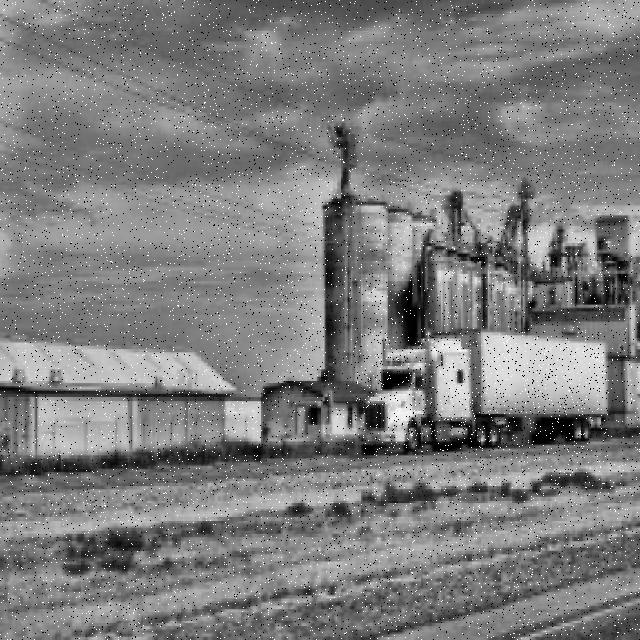Tractor Trailer: (359, 332, 608, 456)
